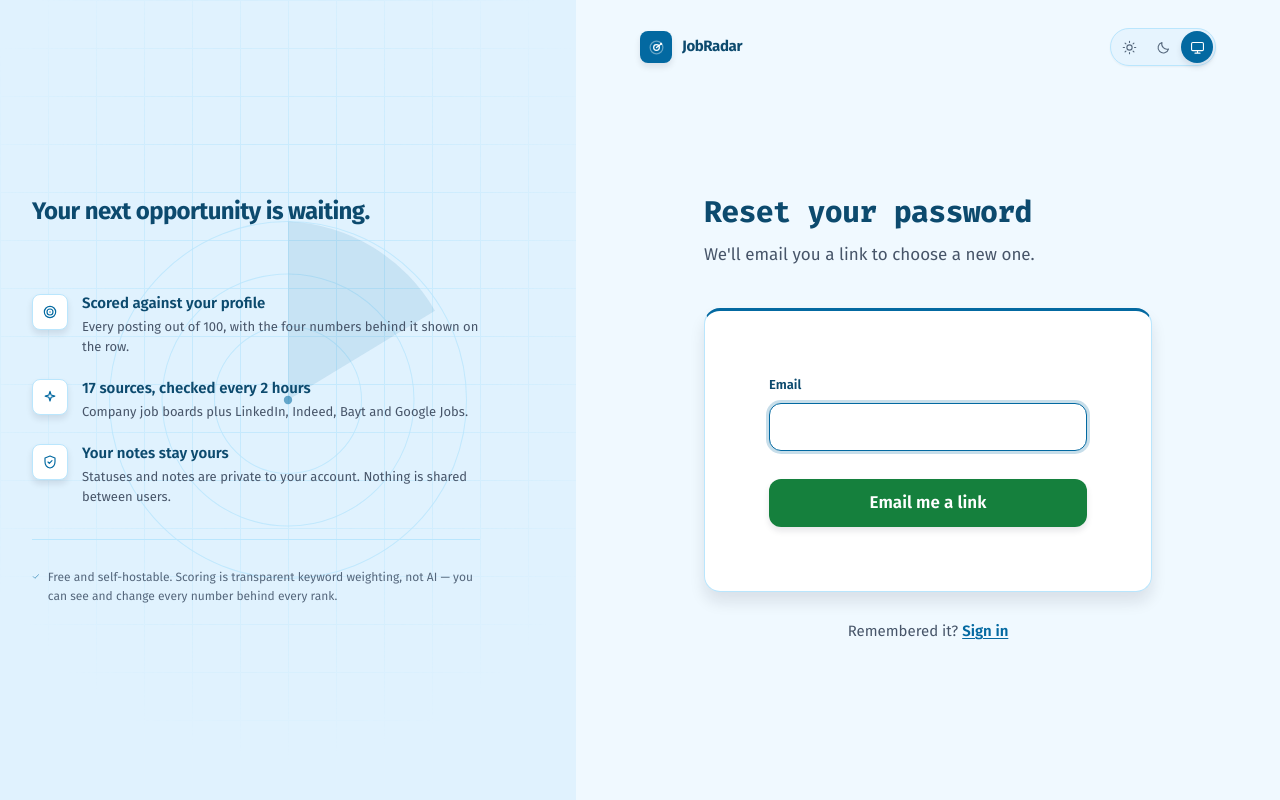
Test: forgot password › says the same thing for an unknown address as a known one
In the field labelled "Email": point(928, 427) x1=769 y1=403 x2=1087 y2=451, type "nobody@example.com"
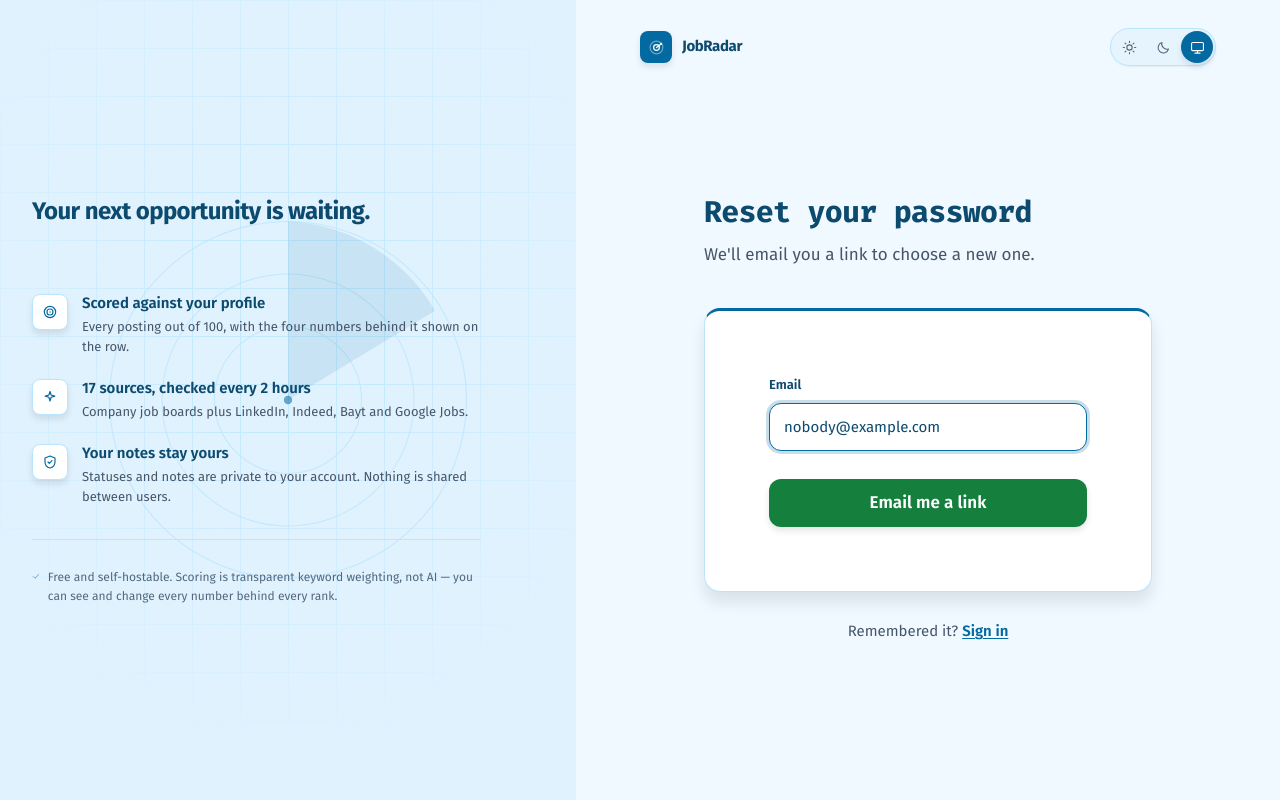
Click the button "Email me a link": point(928, 503) x1=769 y1=479 x2=1087 y2=527
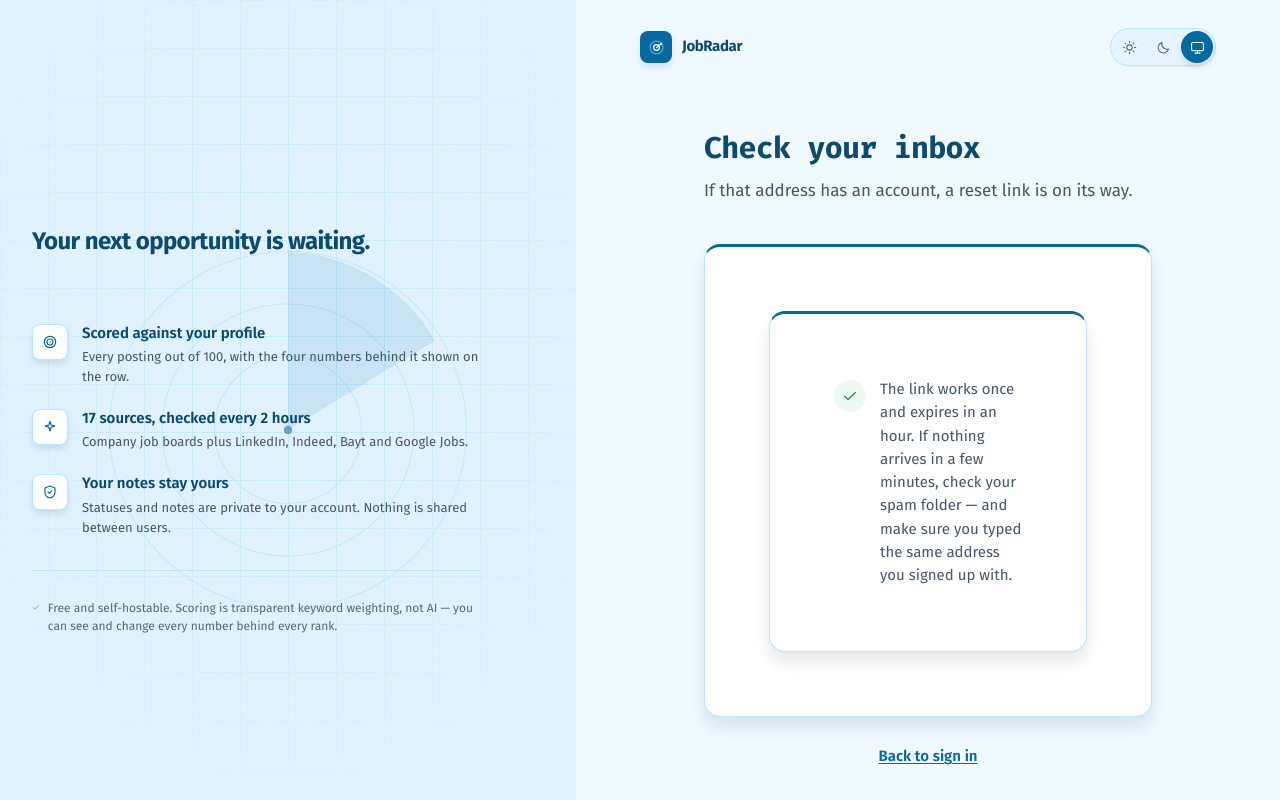
Expected: the heading "Check your inbox" is shown, x1=704 y1=128 x2=980 y2=168
Expected: the text "If that address has an account, a reset link is on its way." is shown, x1=704 y1=180 x2=1132 y2=201
